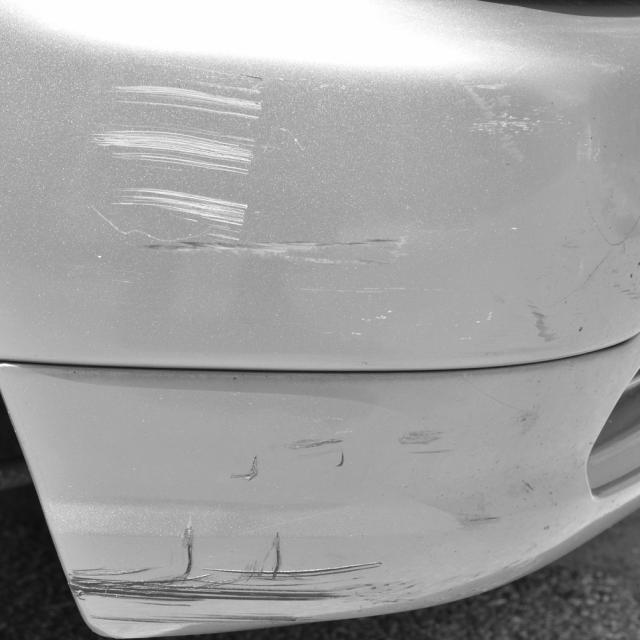scratch: (86, 57, 413, 337), (63, 522, 543, 635), (230, 413, 556, 487)
